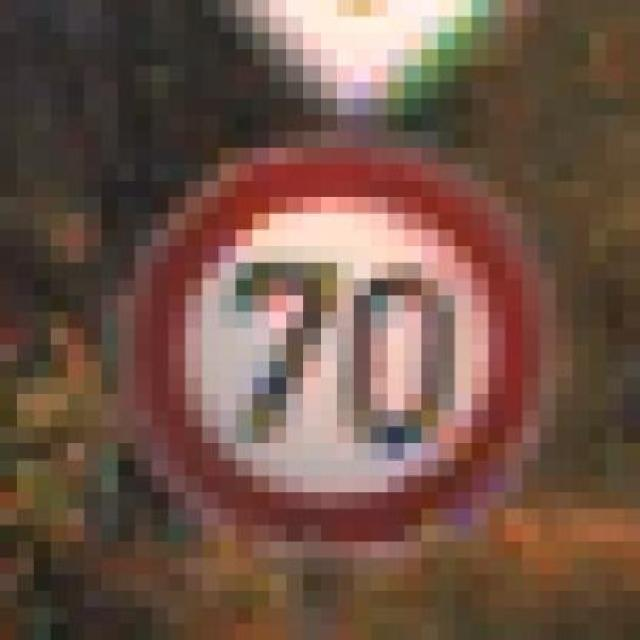forb_speed_over_70: (130, 142, 552, 543)
